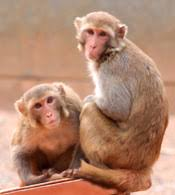monkey: (64, 9, 167, 182), (6, 56, 81, 193)
